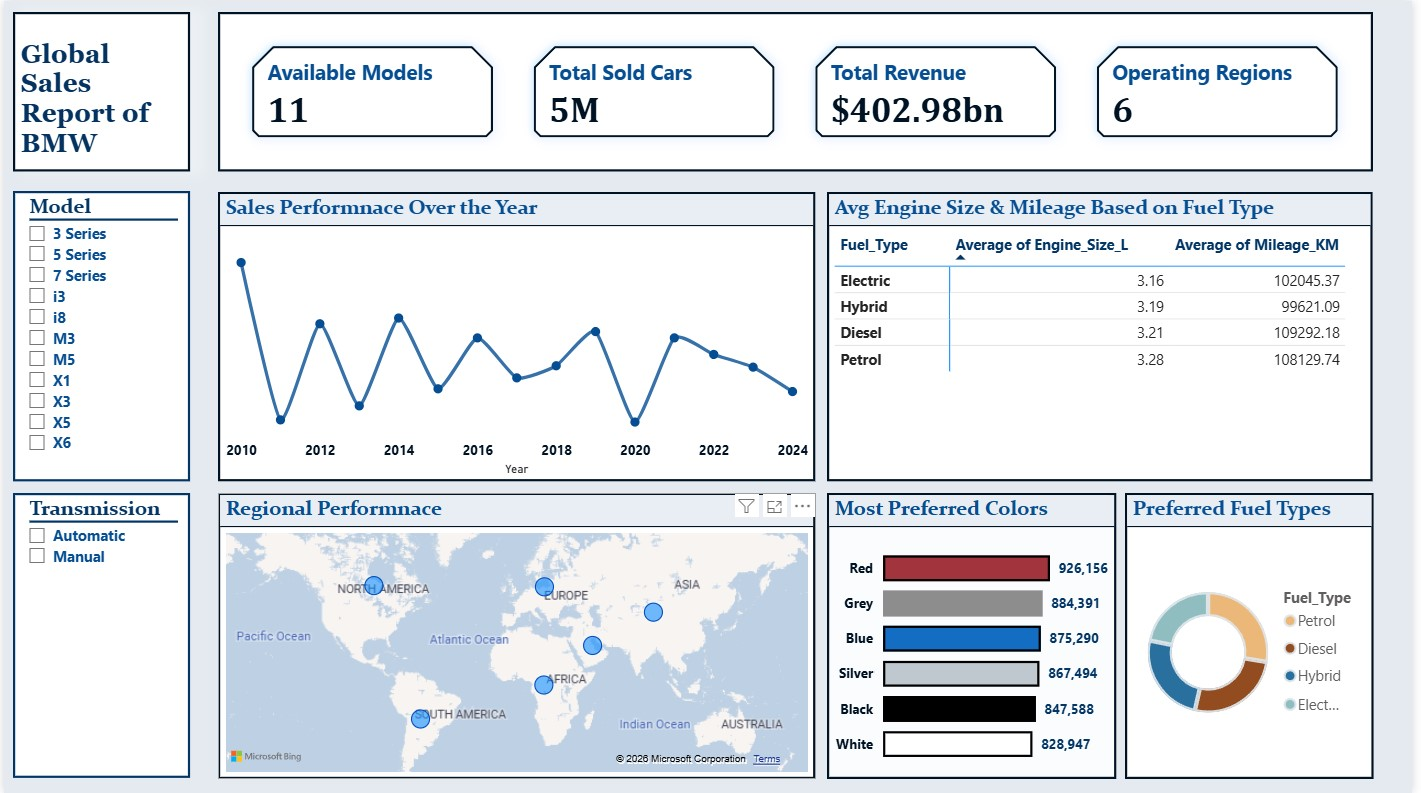

The page's visual inventory and layout, read from the dashboard file:
{"tool":"powerbi","page":{"name":"Page 1","canvas":[1280,720],"ordinal":0},"visuals":[{"type":"textbox","box":[7.7,9.6,135.6,145.2],"z":0},{"type":"cardVisual","fields":{"Data":["Count(Sheet1.Model)","Sum(Sheet1.Sales_Volume)","Sum(Sheet1.Total Revenue)","Count(Sheet1.Region)"]},"box":[152.9,9.6,1050,145.2],"z":1000},{"type":"lineChart","title":"Sales Performnace Over the Year","fields":{"Category":["Sheet1.Year"],"Y":["Sum(Sheet1.Sales_Volume)"]},"box":[152.9,173.1,543.3,263.5],"z":2000},{"type":"clusteredBarChart","title":"Most Preferred Colors","fields":{"Category":["Sheet1.Color"],"Y":["Sum(Sheet1.Sales_Volume)"]},"box":[706.7,447.1,262.5,259.6],"z":3000},{"type":"donutChart","title":"Preferred Fuel Types","fields":{"Y":["Sum(Sheet1.Sales_Volume)"],"Category":["Sheet1.Fuel_Type"]},"box":[976.9,447.1,226,259.6],"z":4000},{"type":"pivotTable","title":"Avg Engine Size & Mileage Based on Fuel Type","fields":{"Values":["Avg(Sheet1.Engine_Size_L)","Avg(Sheet1.Mileage_KM)"],"Rows":["Sheet1.Fuel_Type"]},"box":[706.7,173.1,496.2,263.5],"z":5000},{"type":"map","title":"Regional Performnace ","fields":{"Category":["Sheet1.Region"]},"box":[152.9,447.1,543.3,259.6],"z":6000},{"type":"slicer","fields":{"Values":["Sheet1.Model"]},"box":[7.7,173.1,135.6,263.5],"z":7000},{"type":"slicer","fields":{"Values":["Sheet1.Transmission"]},"box":[7.7,447.1,135.6,259.6],"z":7001}]}

Visuals, with their boxes in screenshot pixels (x1, y1, x2, y2), scaled from the page's 1280x720 canvas onto the 1421x793 screenshot:
textbox: [left=9, top=11, right=159, bottom=170]
cardVisual - Count(Sheet1.Model) x Sum(Sheet1.Sales_Volume): [left=170, top=11, right=1335, bottom=170]
"Sales Performnace Over the Year" lineChart: [left=170, top=191, right=773, bottom=481]
"Most Preferred Colors" clusteredBarChart: [left=785, top=492, right=1076, bottom=778]
"Preferred Fuel Types" donutChart: [left=1085, top=492, right=1335, bottom=778]
"Avg Engine Size & Mileage Based on Fuel Type" pivotTable: [left=785, top=191, right=1335, bottom=481]
"Regional Performnace " map: [left=170, top=492, right=773, bottom=778]
slicer - Sheet1.Model: [left=9, top=191, right=159, bottom=481]
slicer - Sheet1.Transmission: [left=9, top=492, right=159, bottom=778]
